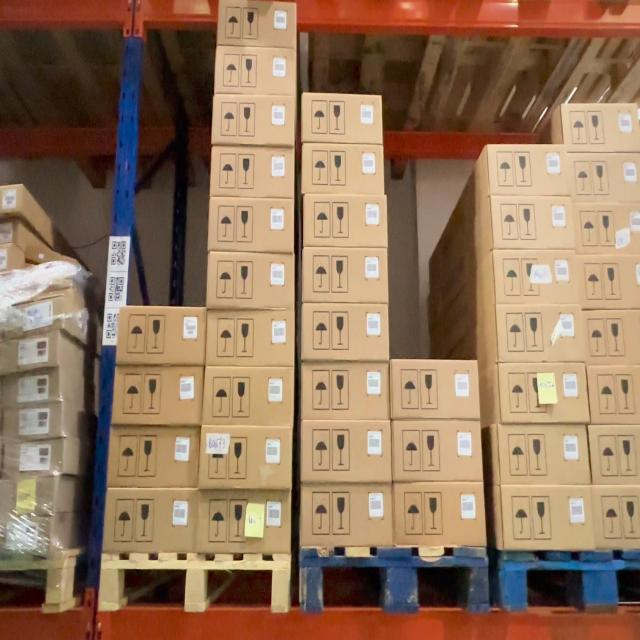box: (503, 485, 595, 549), (393, 420, 487, 482), (396, 483, 486, 545), (201, 428, 294, 488), (107, 491, 198, 552), (302, 484, 393, 544), (200, 492, 292, 551), (302, 421, 391, 481), (110, 428, 200, 486), (392, 360, 480, 419), (205, 251, 295, 308), (206, 368, 296, 425), (502, 426, 590, 484), (119, 306, 208, 363), (496, 306, 585, 363), (502, 366, 588, 424), (302, 364, 390, 420), (209, 310, 295, 366), (302, 305, 389, 360), (115, 368, 203, 422), (303, 248, 389, 303), (208, 199, 295, 253), (207, 146, 296, 198), (304, 195, 389, 247), (497, 252, 580, 305), (494, 196, 574, 249), (489, 144, 569, 197), (302, 145, 384, 194), (561, 102, 640, 152), (211, 98, 293, 146), (302, 96, 382, 144), (216, 48, 296, 96), (218, 2, 296, 47), (569, 152, 639, 202), (574, 205, 640, 255), (580, 258, 640, 308), (584, 310, 640, 362), (589, 366, 640, 421), (594, 488, 640, 546), (592, 427, 640, 482), (0, 334, 59, 373), (1, 480, 59, 519), (2, 440, 62, 477), (2, 405, 63, 441), (0, 372, 60, 407), (1, 520, 54, 559), (5, 299, 65, 333), (18, 268, 74, 298), (28, 244, 77, 266), (1, 183, 23, 215), (1, 219, 21, 245), (1, 244, 19, 271), (1, 274, 18, 300)
